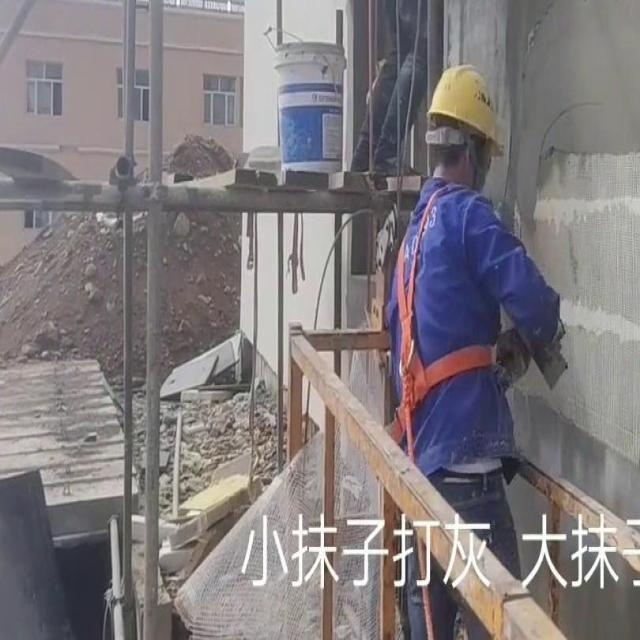Arnes_seguridad: (383, 172, 504, 425)
